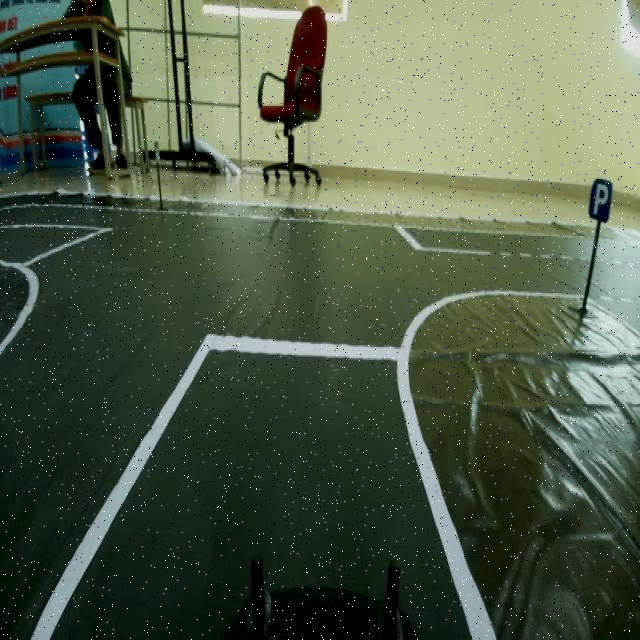parking: (586, 172, 615, 227)
